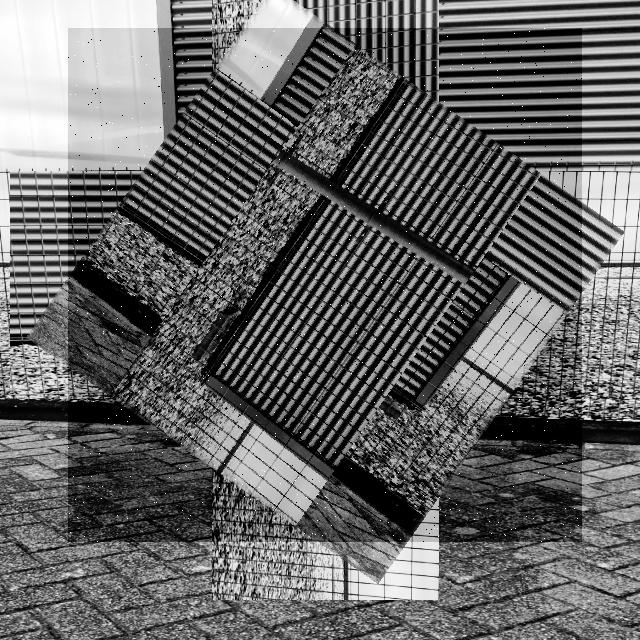fences: (68, 28, 582, 542)
